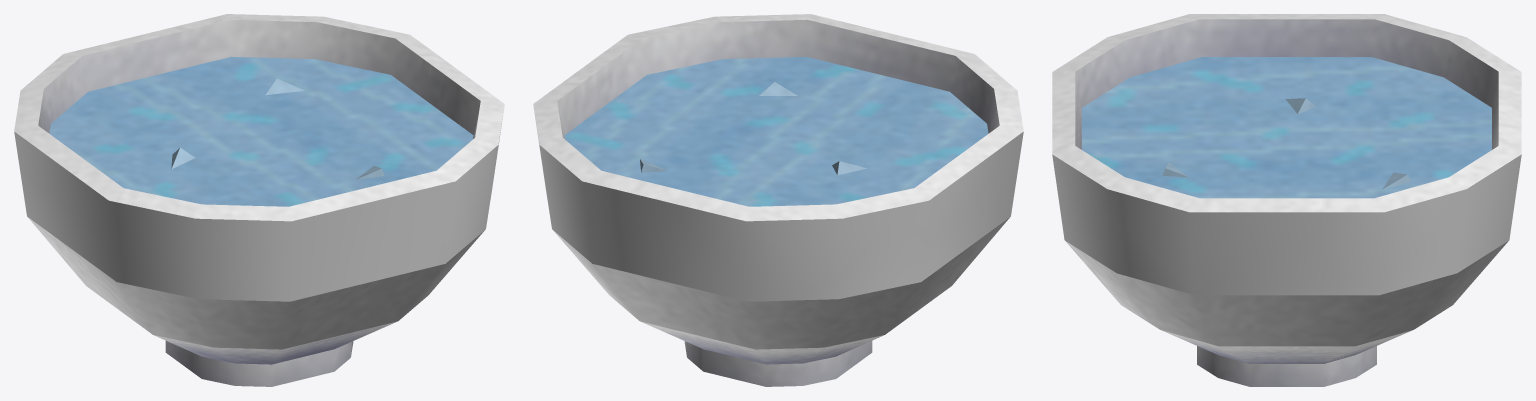
File: Soup_Uncooked.fbx
3 views of the same model, side by side, from view 1: azimuth 30°, elevation 25°; view 2: azimuth 150°, elevation 25°; view 3: azimuth 270°, elevation 25° (orthographic). The views are drawn at different scales.
Visible parts, largest first — view 1: Bowl_Uncooked; view 2: Bowl_Uncooked; view 3: Bowl_Uncooked.
Boxes of the visible parts, left/top/right/bottom form: Bowl_Uncooked: left=14, top=14, right=504, bottom=386; Bowl_Uncooked: left=533, top=14, right=1023, bottom=386; Bowl_Uncooked: left=1052, top=14, right=1521, bottom=386.
Size of the model in its own units: 73.59 by 41.55 by 73.59.
